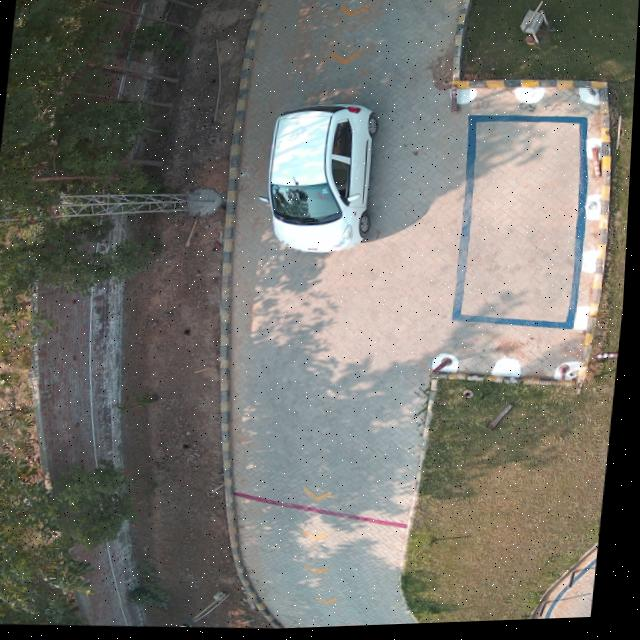car: (269, 107, 380, 255)
